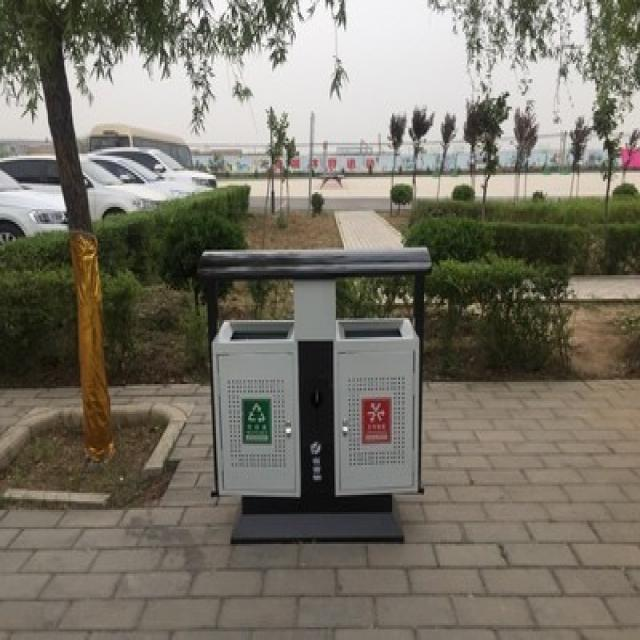ash bin: (194, 241, 432, 542)
bus: (83, 122, 195, 168)
car: (7, 153, 162, 222)
